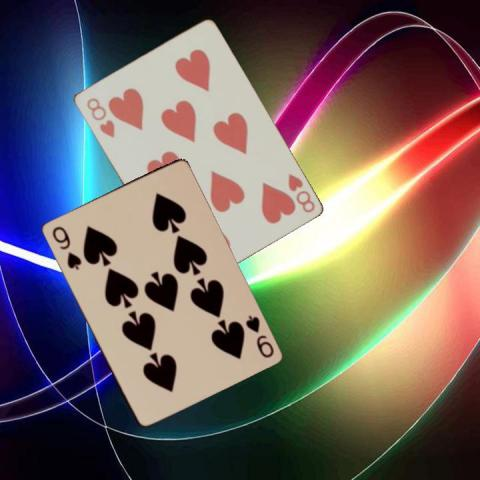8h: (83, 95, 116, 139), (284, 170, 316, 215)
9s: (48, 223, 82, 272), (242, 312, 275, 359)
